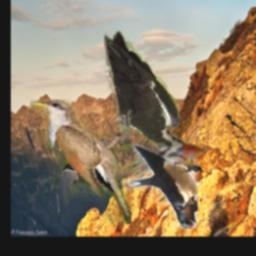Cuckoo: (31, 99, 132, 224)
Swallow: (100, 144, 198, 228)
Woodpecker: (104, 32, 208, 176)
